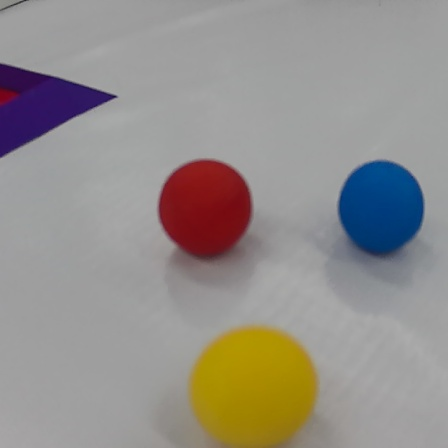blue: (334, 156, 427, 262)
red: (156, 159, 256, 261)
red_aim: (4, 56, 125, 169)
yellow: (188, 322, 321, 448)
